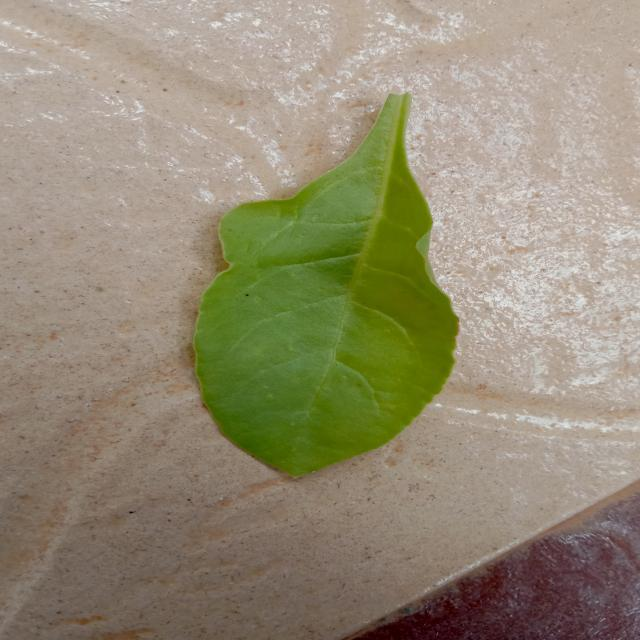leaf: (191, 90, 460, 479)
